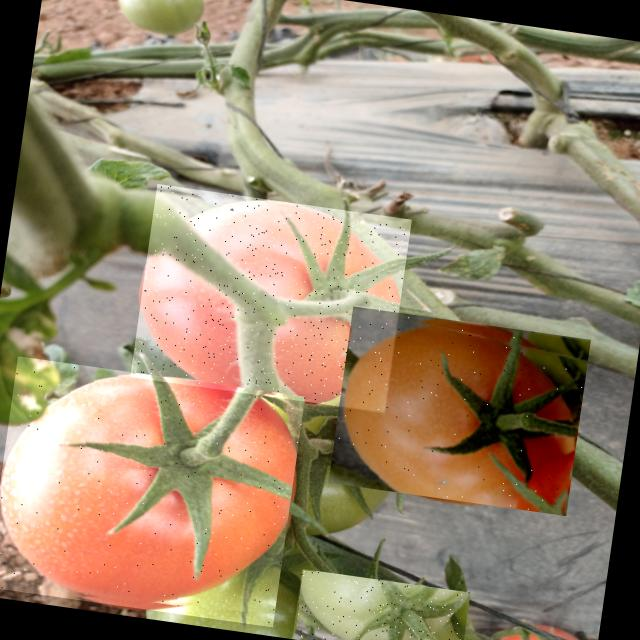Ripe Tomato: (0, 356, 305, 627), (130, 184, 412, 413), (328, 306, 590, 516)
Unripe Tomato: (292, 569, 470, 640)
